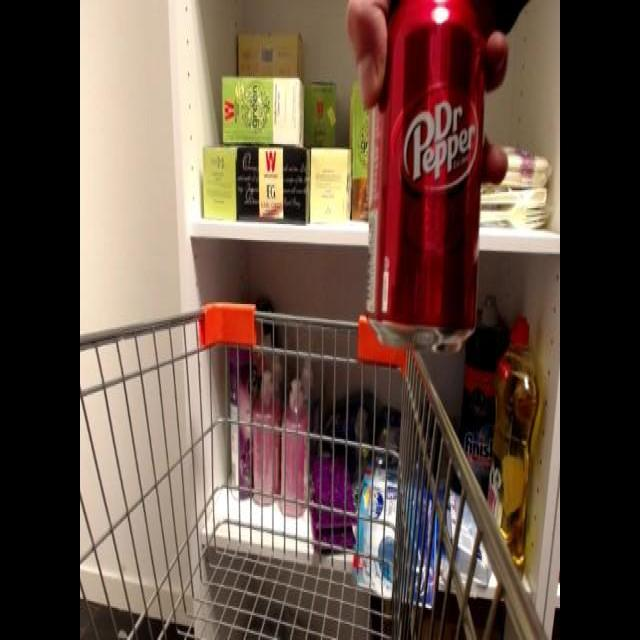Dr Pepper: (350, 11, 494, 348)
